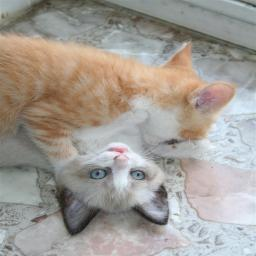catnose: (113, 154, 132, 168)
